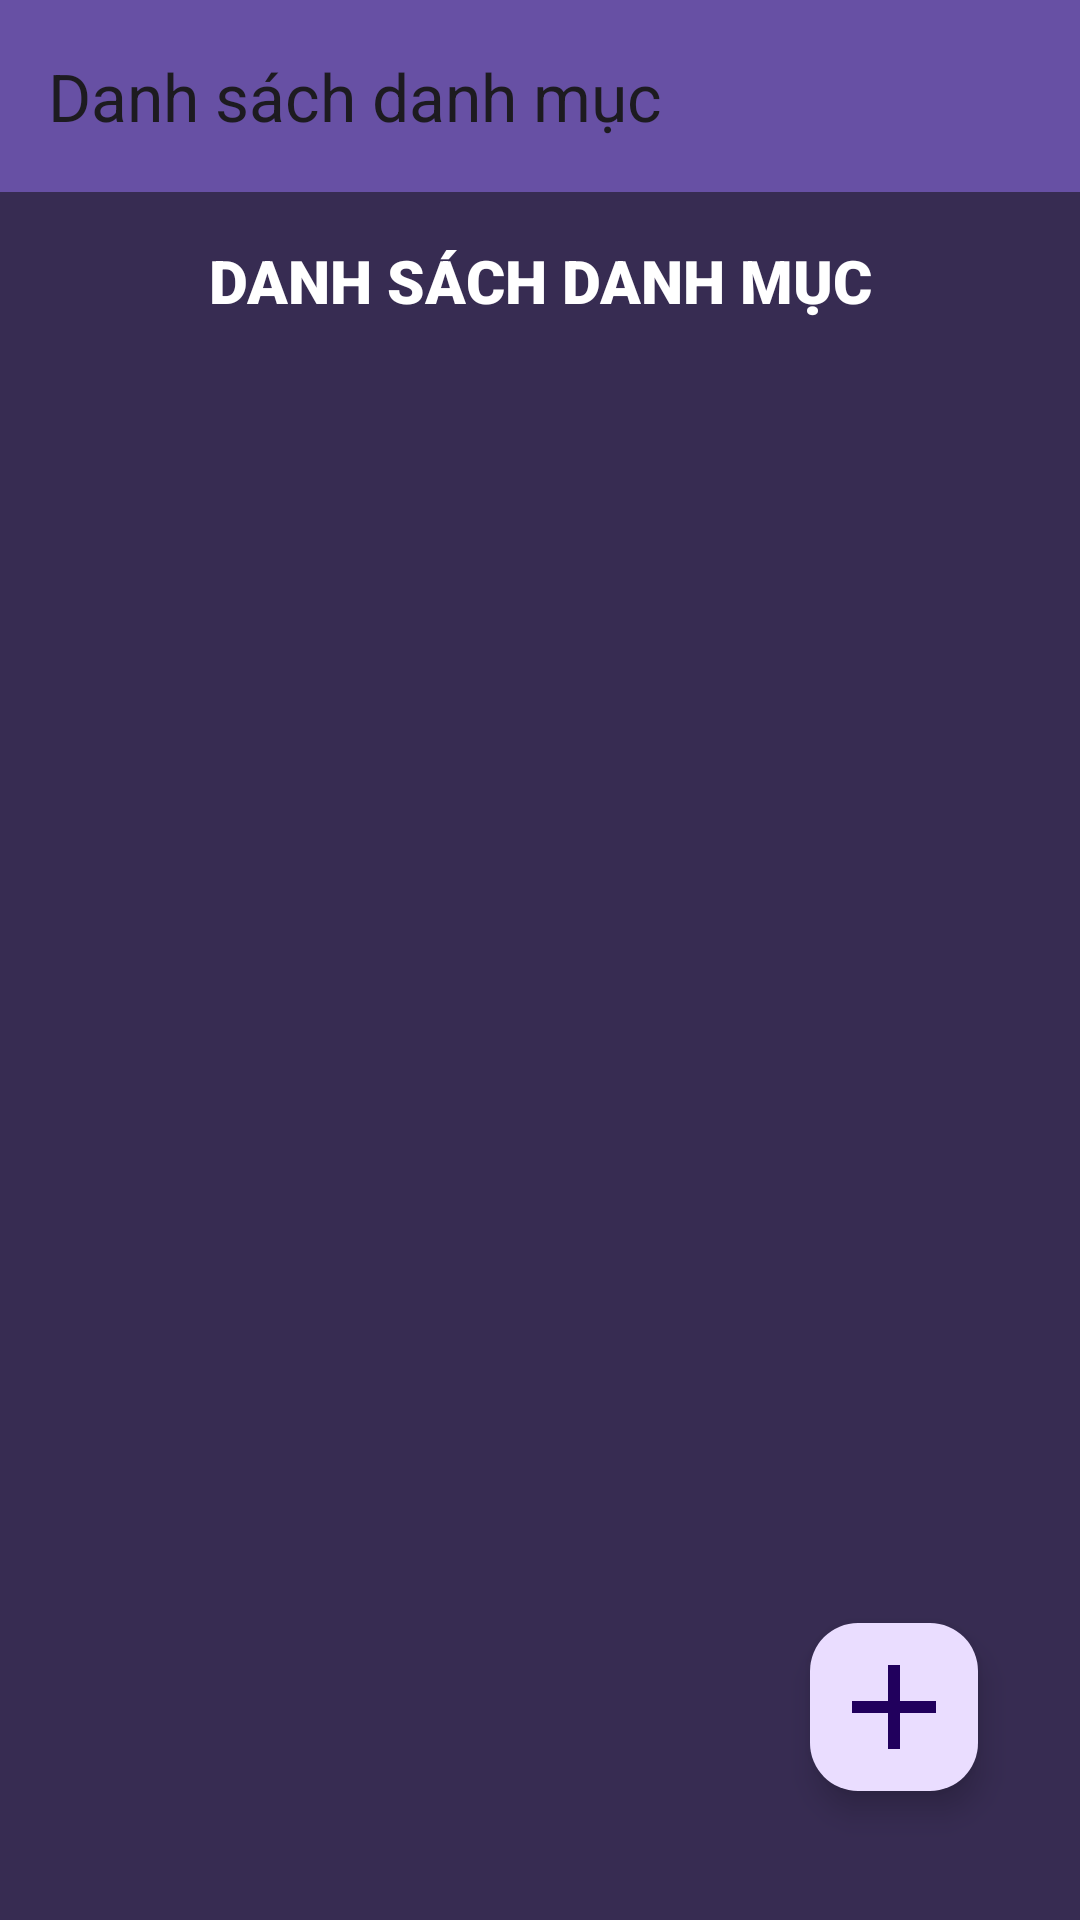

Screen size 1080px×1920px. Icon name, then its box in pixels as rect(x1, y1, x2, y2):
add: rect(810, 1623, 978, 1791)
